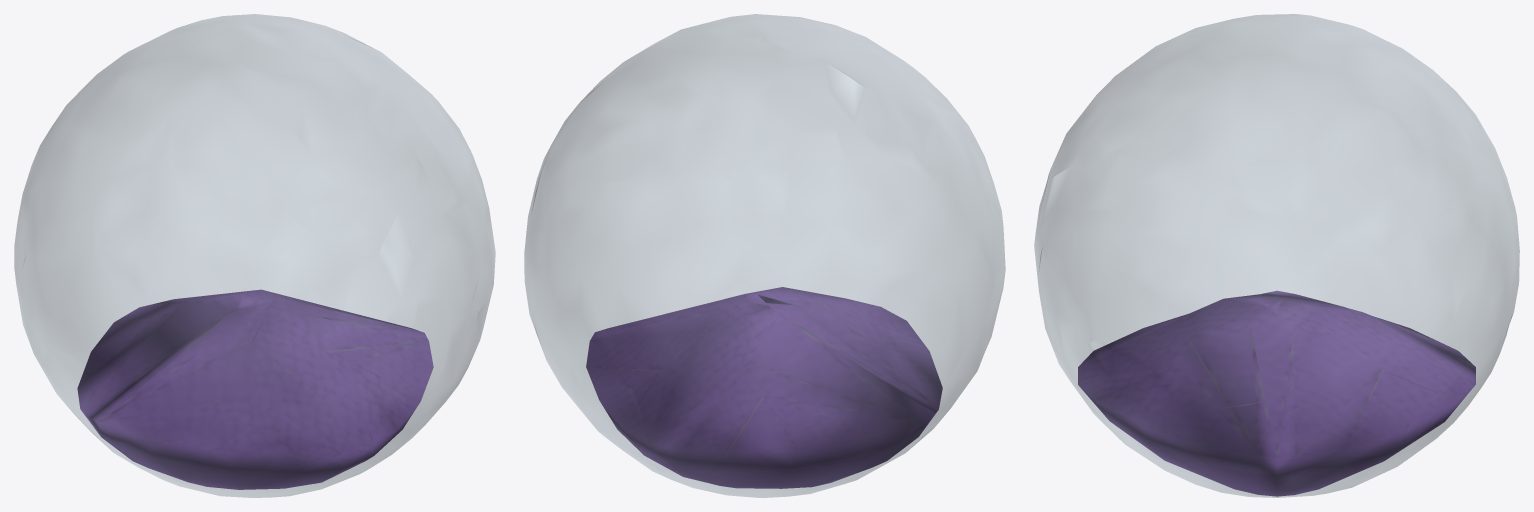
File: item-145.gltf
3 views of the same model, side by side, from view 1: azimuth 30°, elevation 25°; view 2: azimuth 150°, elevation 25°; view 3: azimuth 270°, elevation 25° (orthographic).
Parts seen in each view (by area): view 1: antimony_orb__exp; view 2: antimony_orb__exp; view 3: antimony_orb__exp.
Boxes of the visible parts, x1,y1,x2,y2 form: antimony_orb__exp: (14, 14, 495, 497); antimony_orb__exp: (524, 14, 1005, 497); antimony_orb__exp: (1034, 14, 1519, 497).
Size of what is drawn, in the model's own units: 0.6258 by 0.6278 by 0.6268.
2 materials, 1 textured.
